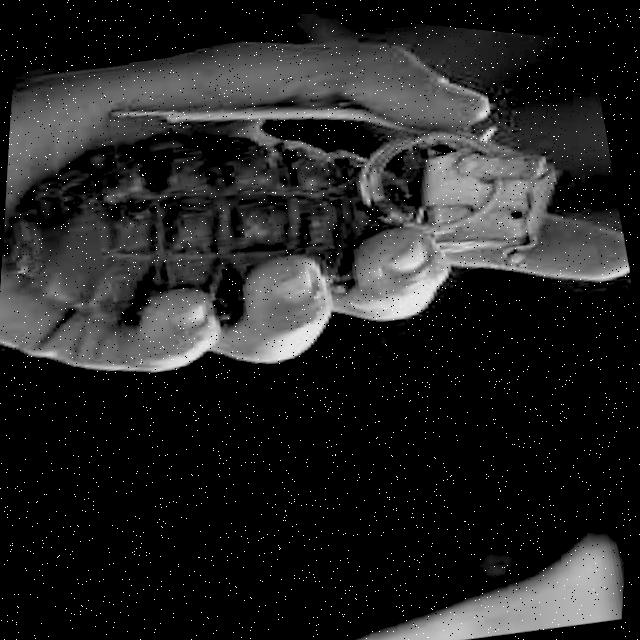grenade: (0, 3, 590, 396)
